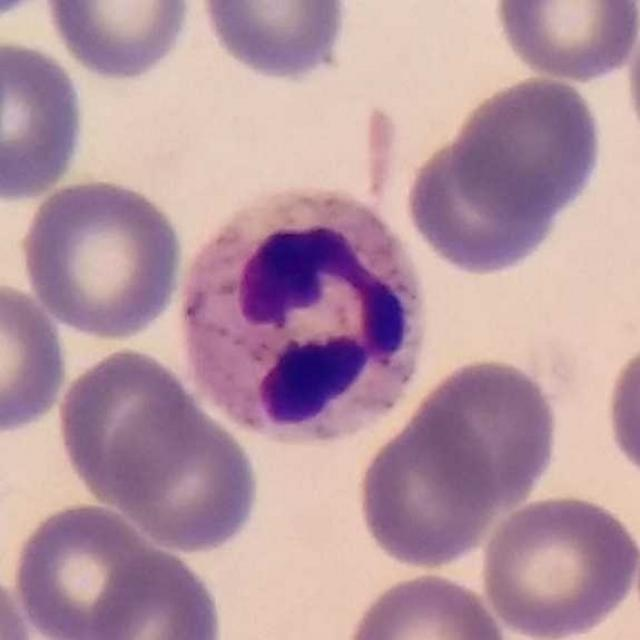Neutrophil: (172, 180, 436, 458)
RBC: (16, 174, 188, 342), (104, 390, 264, 556), (352, 403, 501, 573), (406, 352, 563, 513), (399, 128, 566, 278), (52, 344, 200, 510), (476, 491, 639, 640), (448, 72, 608, 223), (7, 498, 161, 640), (0, 36, 90, 204), (196, 0, 354, 85), (40, 0, 197, 85), (88, 545, 227, 640), (489, 0, 640, 84), (341, 569, 513, 640), (0, 277, 71, 439), (601, 330, 640, 491), (622, 3, 640, 164), (0, 563, 36, 640)
